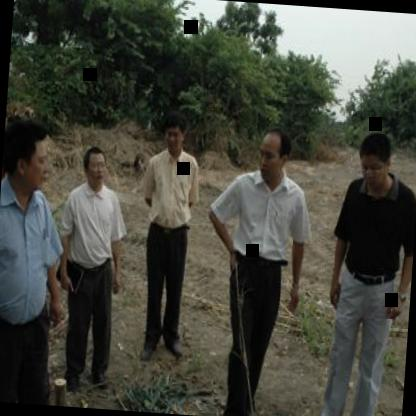head: (0, 114, 59, 200), (355, 128, 397, 192), (256, 126, 293, 184), (78, 144, 112, 191), (158, 110, 191, 158)
